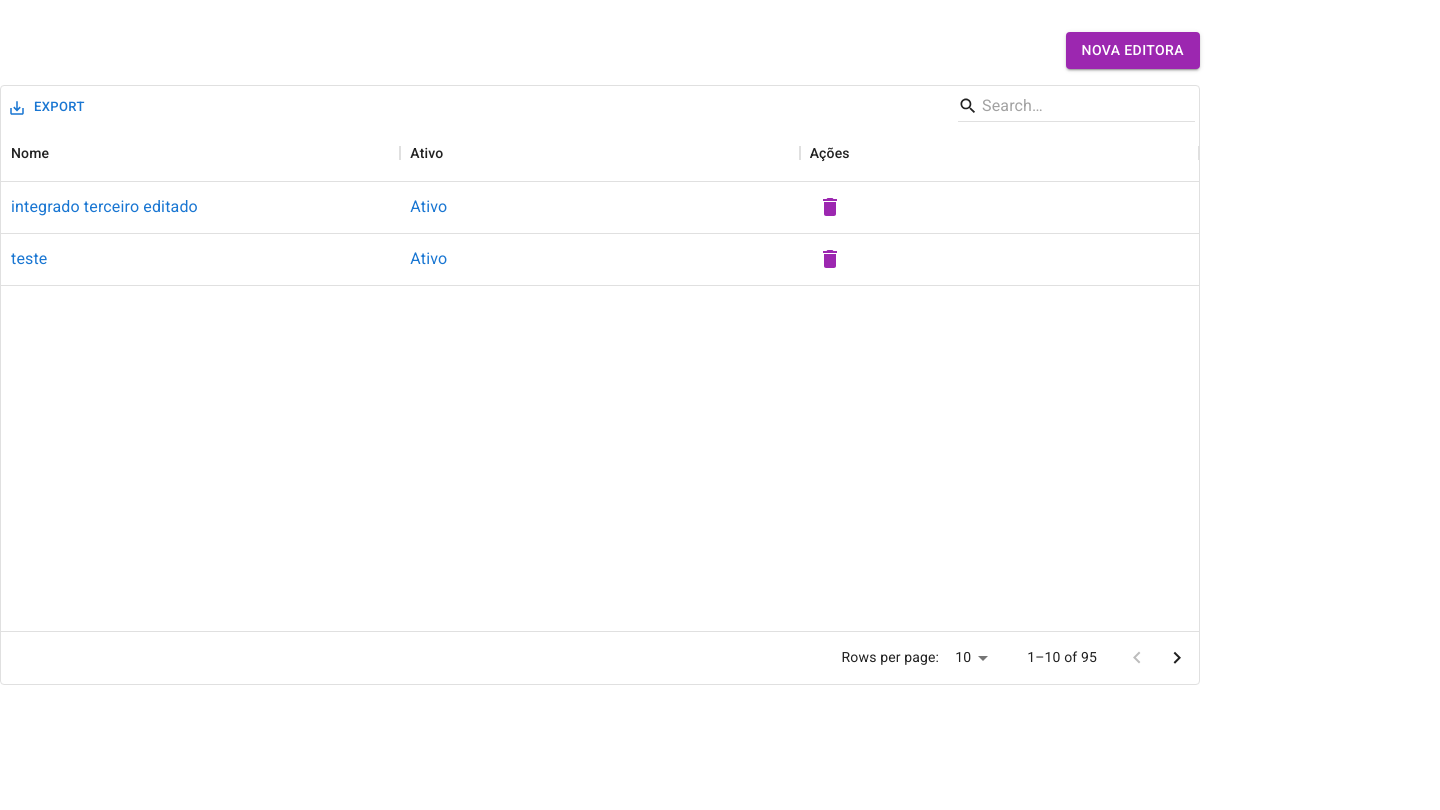
it: ListPublisher › should handle delete publisher success
This screenshot has width=1440, height=810.
Expected: the text "integrado terceiro editado" is shown, [11, 195, 198, 219]
Click the button with test id "delete-button" in the row of "integrado terceiro editado" at (830, 207), box [810, 187, 850, 227]
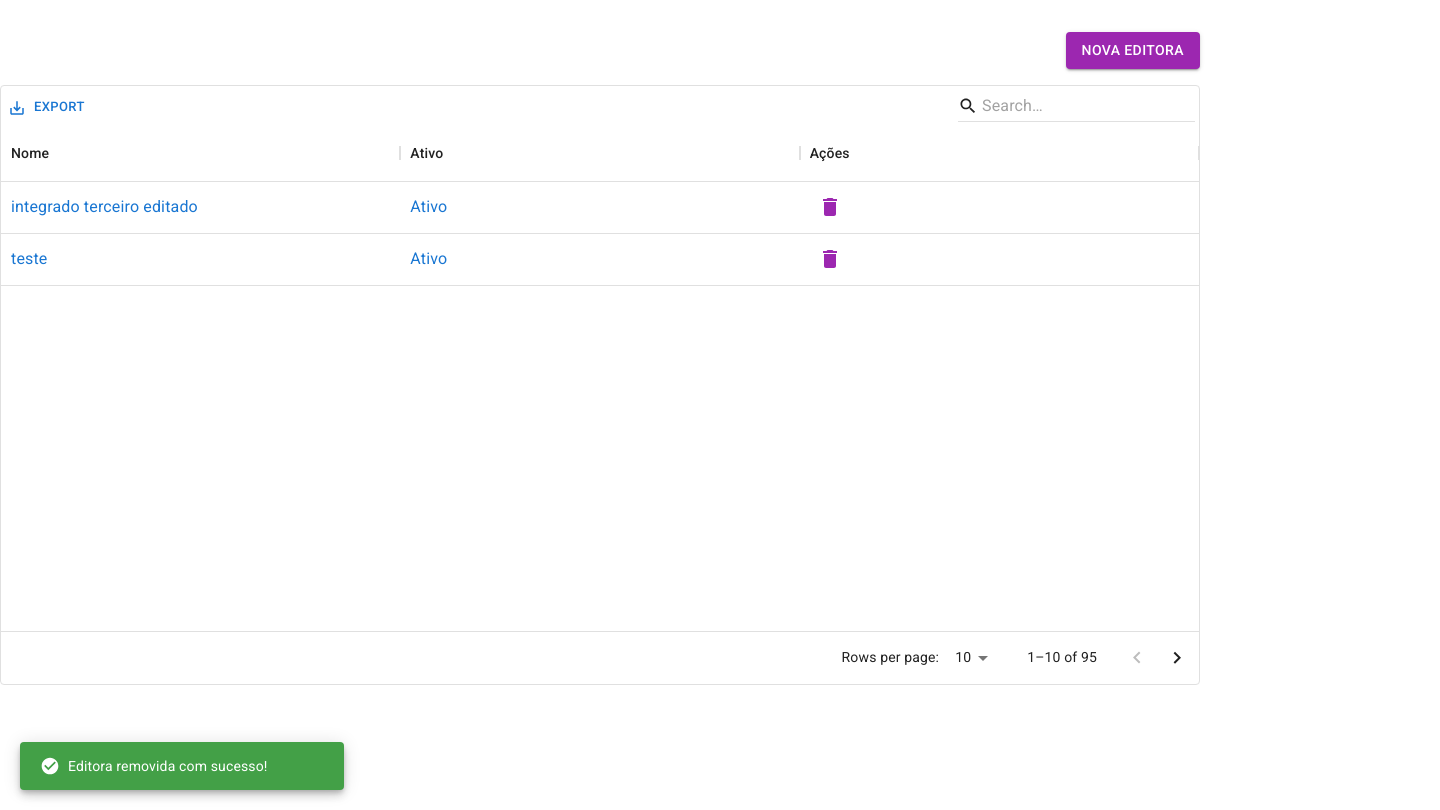
Expected: the text "Editora removida com sucesso!" is shown, [40, 756, 268, 776]
